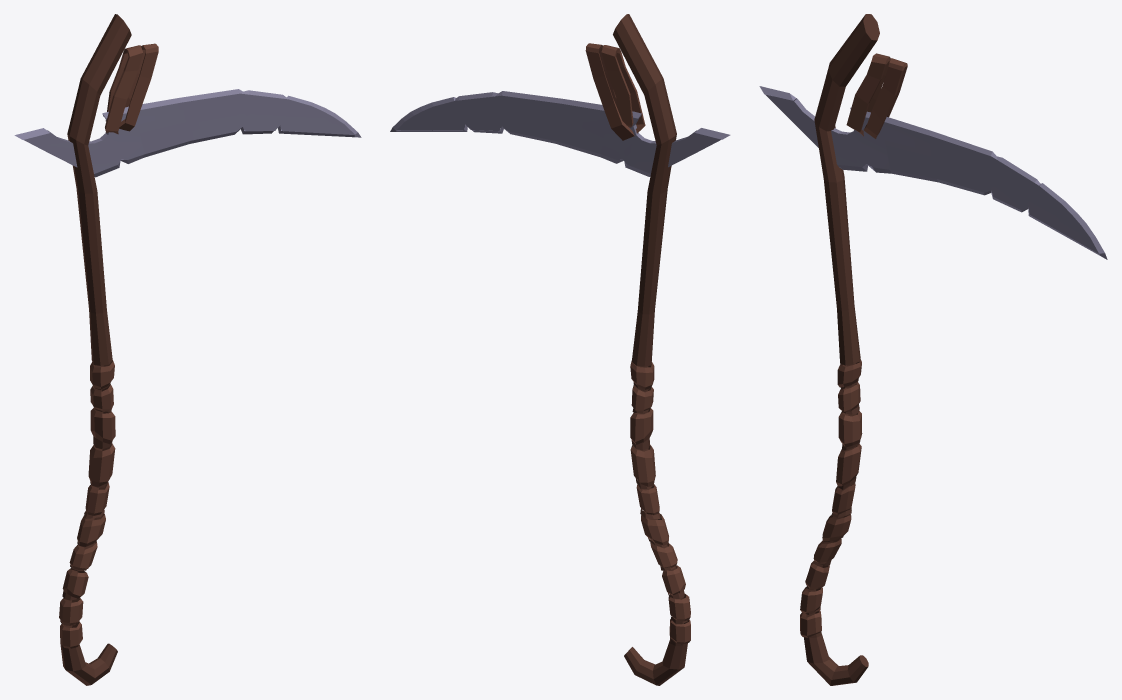
Rendered from armory-necromancer-4.glb.
3 views of the same model, side by side, from view 1: azimuth 30°, elevation 25°; view 2: azimuth 150°, elevation 25°; view 3: azimuth 330°, elevation 25° (orthographic). The views are drawn at different scales.
Parts seen in each view (by area): view 1: Scythe_Cylinder.005; view 2: Scythe_Cylinder.005; view 3: Scythe_Cylinder.005.
Part boxes in pixels (x1,y1,x2,y2): Scythe_Cylinder.005: (14,14,361,685); Scythe_Cylinder.005: (390,14,730,685); Scythe_Cylinder.005: (759,14,1107,685).
Size of the model in its own units: 3.77 by 6.96 by 0.3186.
